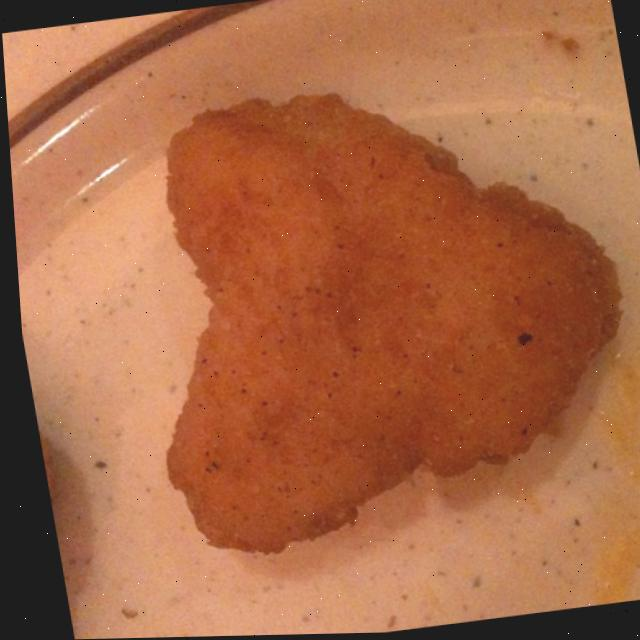鸡肉料理 含炸鸡: (57, 44, 632, 617)
